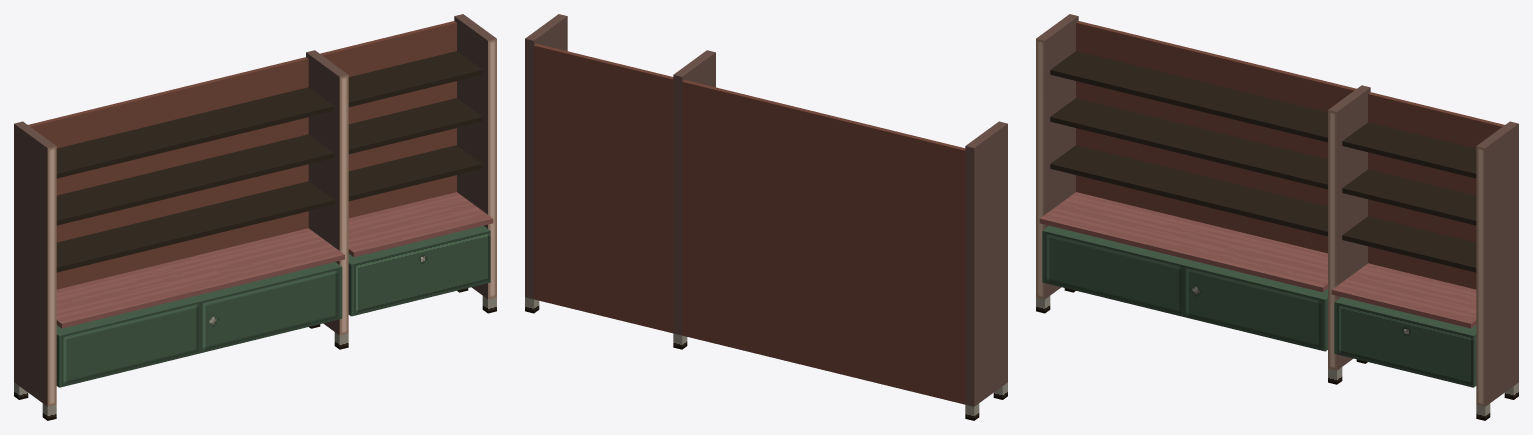
Rendered from prop_library_01.obj.
3 views of the same model, side by side, from view 1: azimuth 30°, elevation 25°; view 2: azimuth 150°, elevation 25°; view 3: azimuth 330°, elevation 25° (orthographic).
Visible parts, largest first — view 1: entity1_brush12, entity1_brush6, entity1_brush1, entity1_brush4, entity1_brush11, entity1_brush8, entity1_brush16, entity1_brush10, entity1_brush15, entity1_brush3, entity1_brush0, entity1_brush2 (+3 smaller); view 2: entity1_brush12, entity1_brush11, entity1_brush1, entity1_brush3, entity1_brush0; view 3: entity1_brush12, entity1_brush6, entity1_brush0, entity1_brush4, entity1_brush11, entity1_brush8, entity1_brush10, entity1_brush15, entity1_brush16, entity1_brush3, entity1_brush1, entity1_brush2 (+3 smaller).
Boxes of the visible parts, <box> form: entity1_brush12: <box>28,57,308,289</box>; entity1_brush6: <box>56,262,342,387</box>; entity1_brush1: <box>14,121,56,406</box>; entity1_brush4: <box>56,228,344,328</box>; entity1_brush11: <box>320,21,456,218</box>; entity1_brush8: <box>348,225,490,316</box>; entity1_brush16: <box>56,87,334,178</box>; entity1_brush10: <box>56,181,334,272</box>; entity1_brush15: <box>56,134,334,225</box>; entity1_brush3: <box>306,50,348,335</box>; entity1_brush0: <box>454,14,496,299</box>; entity1_brush2: <box>348,192,493,257</box>; entity1_brush12: <box>682,80,965,404</box>; entity1_brush11: <box>534,43,673,333</box>; entity1_brush1: <box>965,121,1007,406</box>; entity1_brush3: <box>673,50,715,335</box>; entity1_brush0: <box>525,14,567,299</box>; entity1_brush12: <box>1076,21,1356,253</box>; entity1_brush6: <box>1042,225,1327,351</box>; entity1_brush0: <box>1476,121,1518,406</box>; entity1_brush4: <box>1039,192,1327,292</box>; entity1_brush11: <box>1368,92,1504,289</box>; entity1_brush8: <box>1334,297,1476,387</box>; entity1_brush10: <box>1050,145,1327,236</box>; entity1_brush15: <box>1050,98,1327,189</box>; entity1_brush16: <box>1050,51,1327,142</box>; entity1_brush3: <box>1328,85,1370,370</box>; entity1_brush1: <box>1036,14,1078,299</box>; entity1_brush2: <box>1331,263,1476,328</box>.
Bounding box in the file's own units: 200 × 116 × 30.
